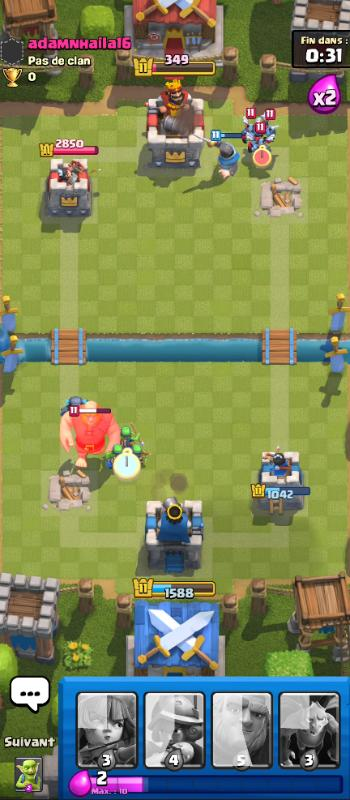chevalier: (207, 133, 245, 184)
gargouille: (256, 120, 280, 142), (240, 122, 261, 140), (249, 138, 271, 152)
geant: (60, 402, 118, 466)
gobelin_lances: (115, 424, 145, 447), (126, 443, 149, 467), (108, 441, 125, 467)
mini_PEKKA: (62, 394, 89, 416)
